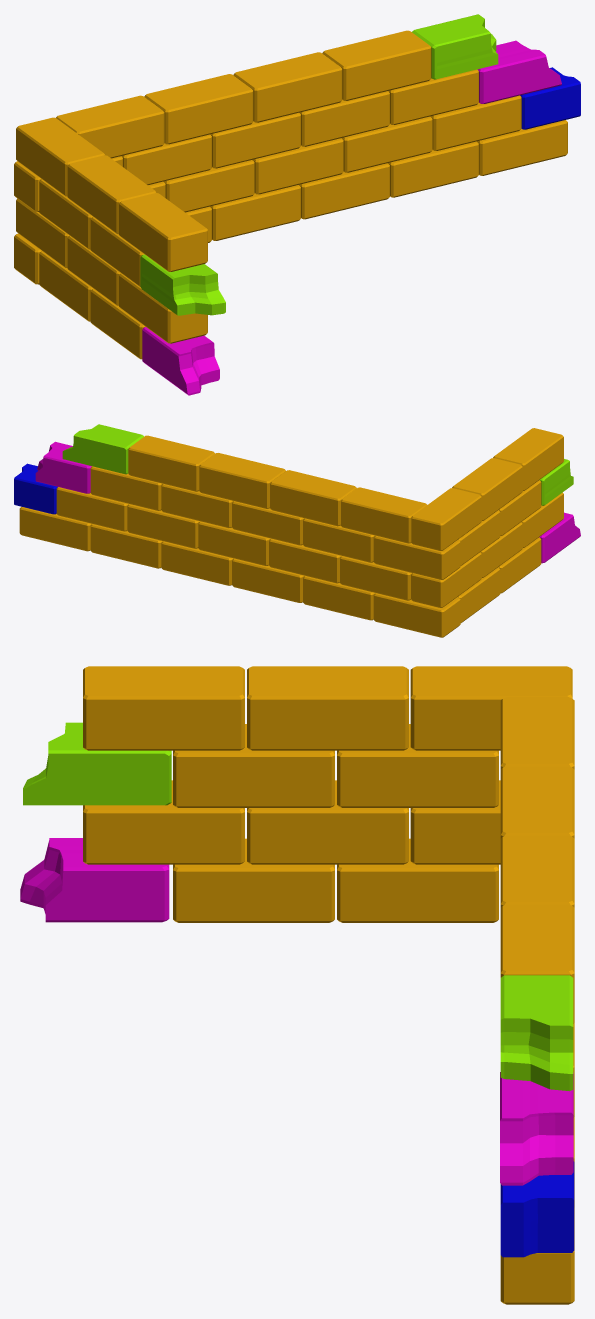
Rendered from MOD_CornerRuins.fbx.
3 views of the same model, one above another, from view 1: azimuth 30°, elevation 25°; view 2: azimuth 150°, elevation 25°; view 3: azimuth 270°, elevation 25° (orthographic). The views are drawn at different scales.
Visible parts, largest first — view 1: pCube95; view 2: pCube95; view 3: pCube95.
Part boxes in pixels (x1=…): pCube95: x1=14, y1=14, x2=580, y2=395; pCube95: x1=14, y1=424, x2=580, y2=637; pCube95: x1=20, y1=666, x2=574, y2=1304.
Bounding box in the file's own units: 335 × 83.95 × 186.
